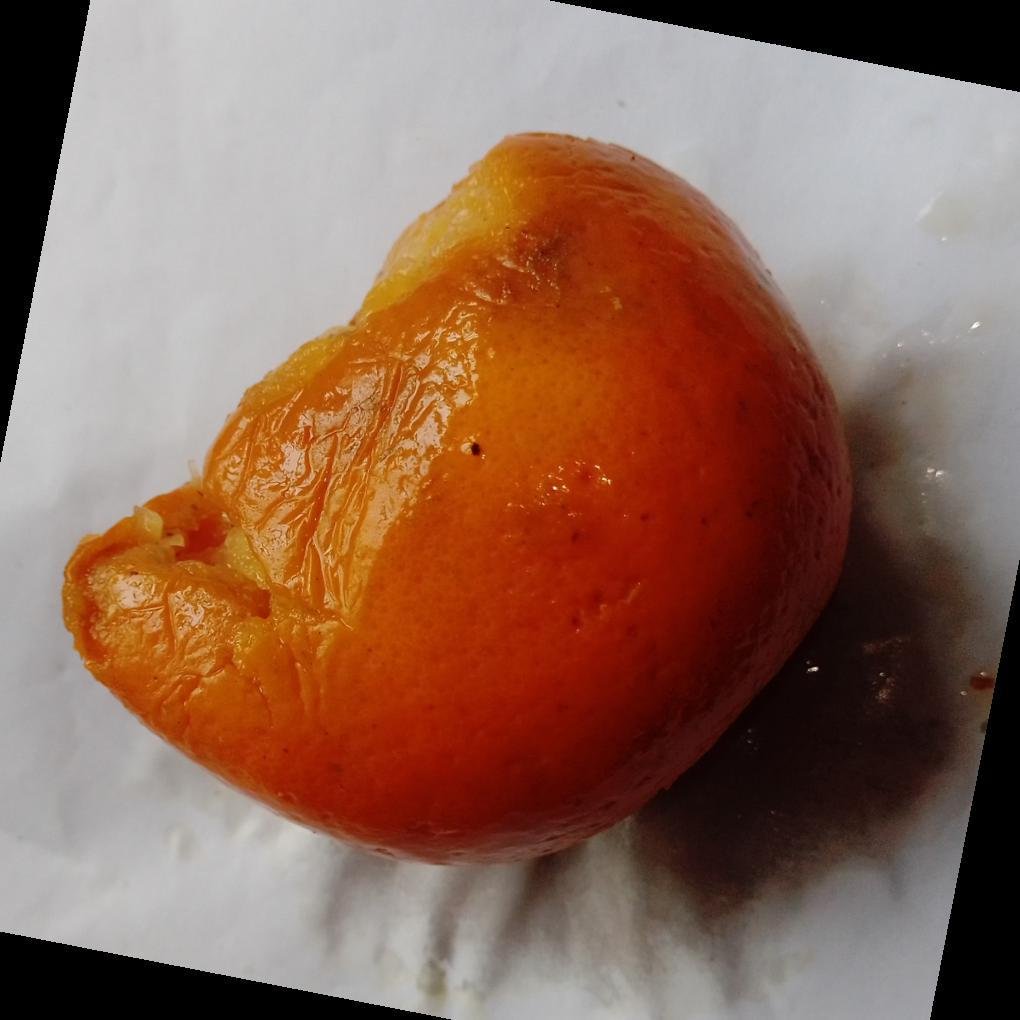FreshOrange: (58, 132, 855, 870)
